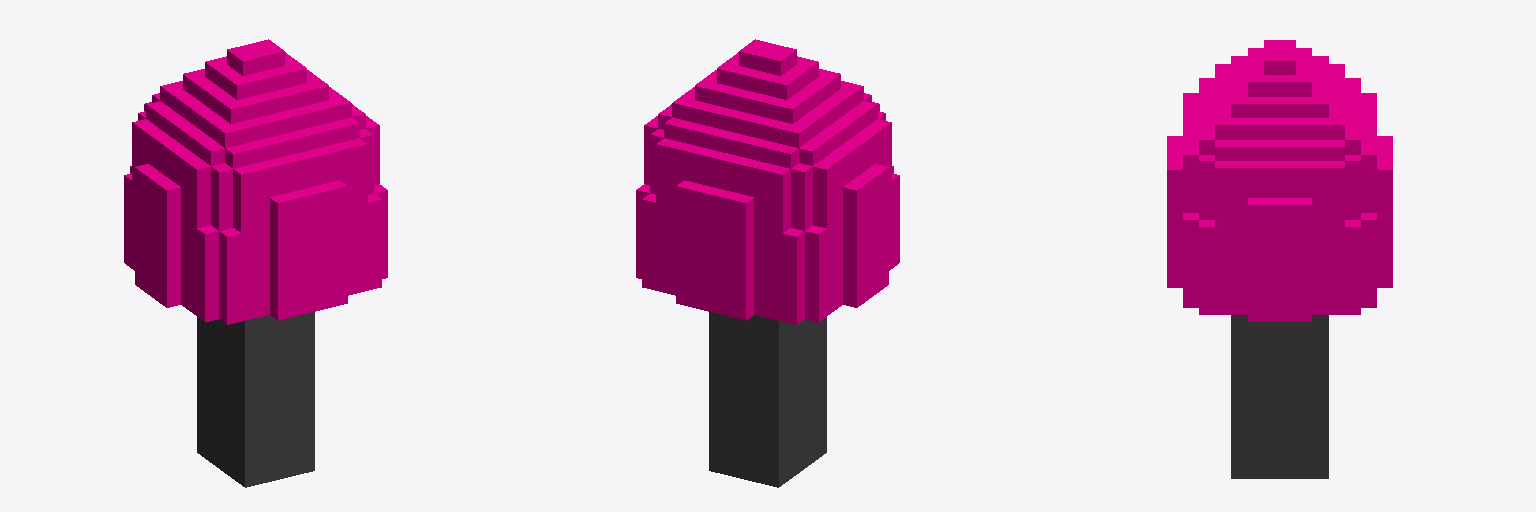
The picture shows the model from 3 angles: view 1: azimuth 30°, elevation 25°; view 2: azimuth 150°, elevation 25°; view 3: azimuth 270°, elevation 25°; orthographic projection.
Bounding box in the file's own units: 15 × 28 × 14.
1 materials, 1 textured.